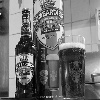beer: (13, 5, 40, 97)
